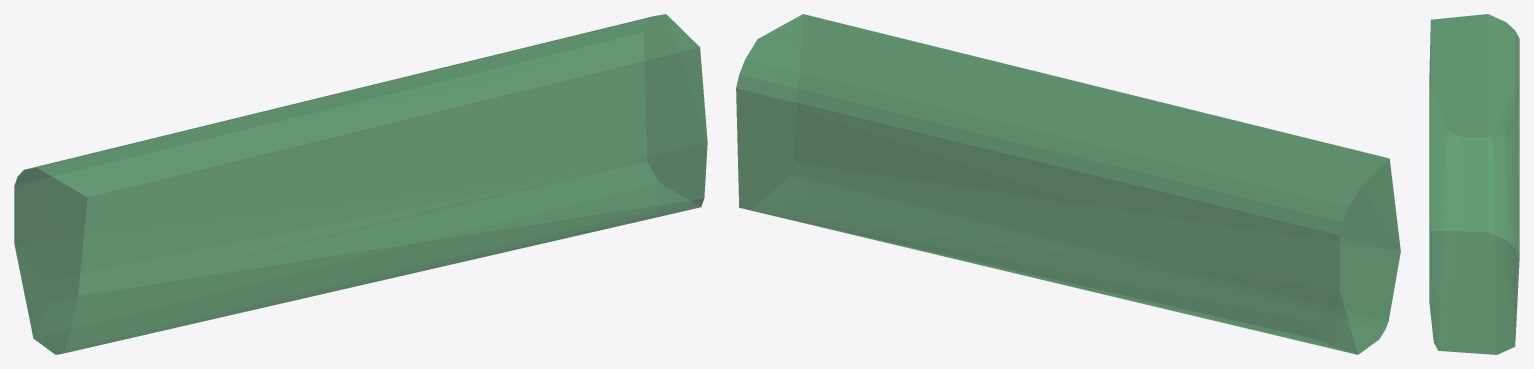
3 views of the same model, side by side, from view 1: azimuth 30°, elevation 25°; view 2: azimuth 150°, elevation 25°; view 3: azimuth 270°, elevation 25° (orthographic). The views are drawn at different scales.
Visible parts, largest first — view 1: Shape_IndexedFaceSet.008_Shape_IndexedFaceSet.14055; view 2: Shape_IndexedFaceSet.008_Shape_IndexedFaceSet.14055; view 3: Shape_IndexedFaceSet.008_Shape_IndexedFaceSet.14055.
Part boxes in pixels (x1,y1,x2,y2): Shape_IndexedFaceSet.008_Shape_IndexedFaceSet.14055: (14, 14, 707, 354); Shape_IndexedFaceSet.008_Shape_IndexedFaceSet.14055: (736, 14, 1400, 354); Shape_IndexedFaceSet.008_Shape_IndexedFaceSet.14055: (1429, 14, 1519, 354).
Bounding box in the file's own units: 0.3166 × 0.0833 × 0.0555.
